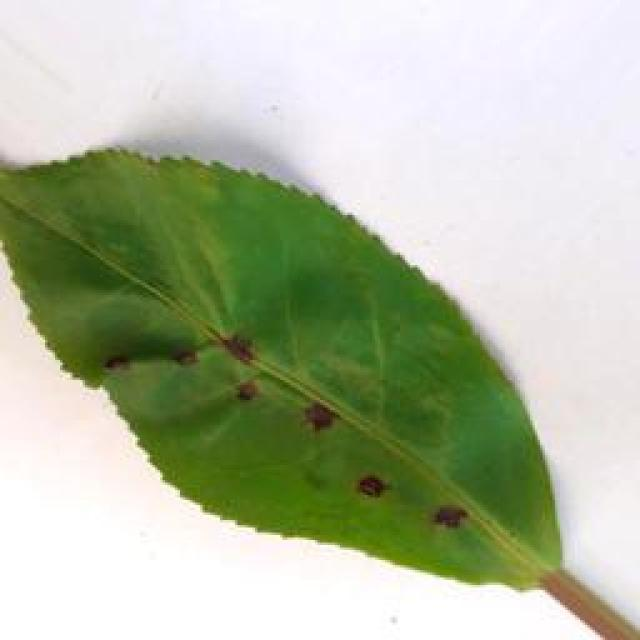Helopeltis: (2, 133, 568, 604)
